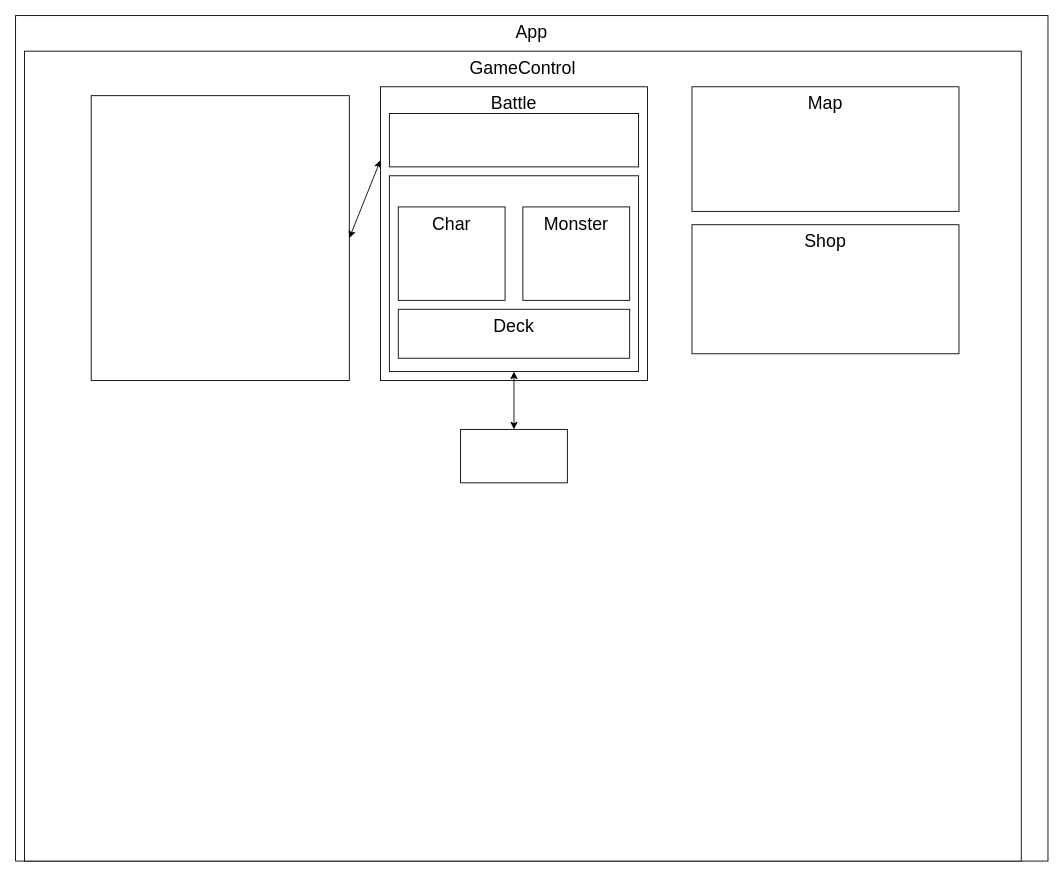
The diagram is 1064 pixels wide and 877 high, and some of its shapes have lost their labels. The box of each missing label's shape, as (x1, y1, x2, y2) in pixels:
Field: (388, 175, 639, 372)
Header: (388, 113, 639, 167)
Results: (460, 429, 567, 483)
Start.js: (90, 95, 349, 380)
